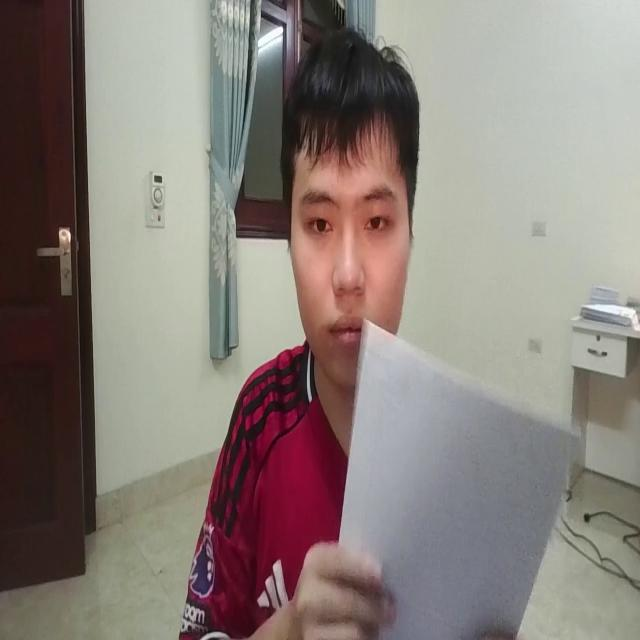book: (341, 304, 575, 640)
student: (182, 24, 432, 640)
